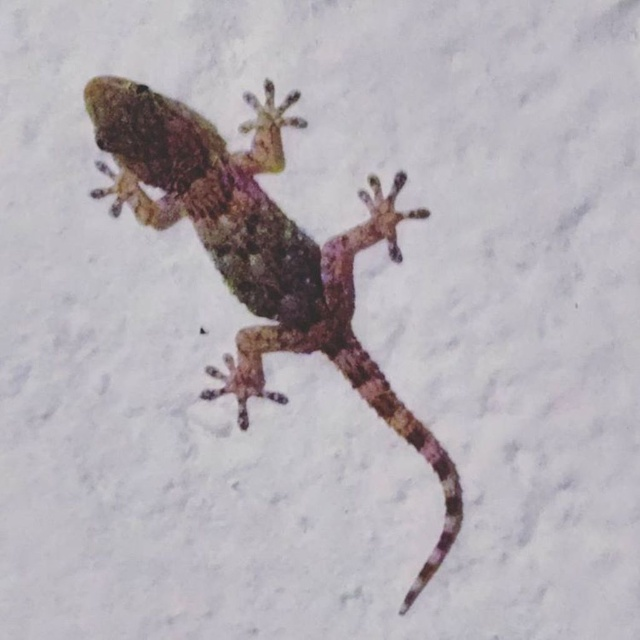Lizard: (89, 65, 487, 587)
